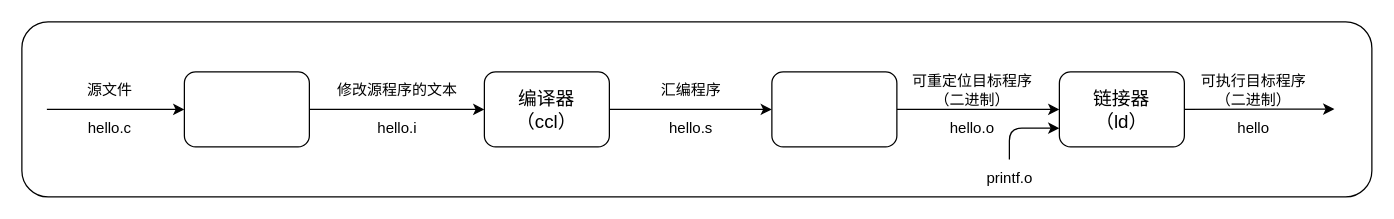
This 1394x219 diagram has some shape labels left out. Here are the shapes that lost their labels. From the top down, the centre of each, then its label:
[246,109]: 预处理器 （cpp）
[834,109]: 汇编器 （as）
